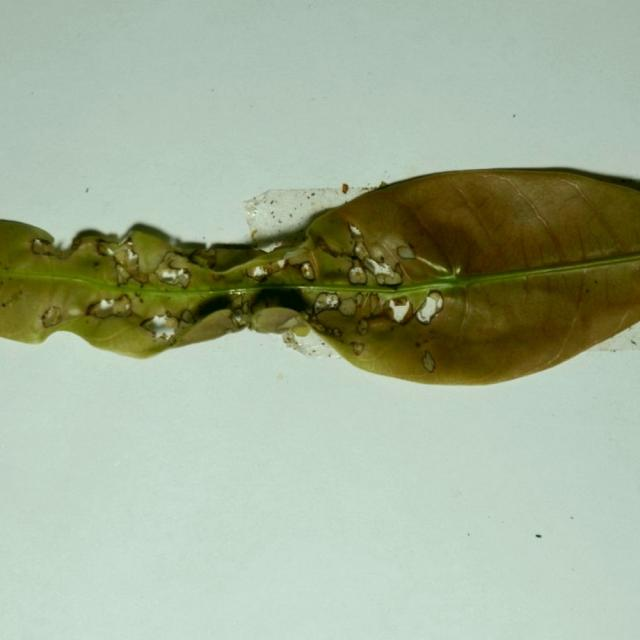Anthracnose: (94, 235, 206, 291), (28, 229, 142, 283), (309, 287, 413, 345), (30, 286, 141, 335), (347, 232, 406, 289), (307, 291, 357, 339), (248, 249, 314, 284), (139, 305, 196, 343), (67, 234, 104, 258), (318, 233, 350, 260), (229, 294, 251, 328), (311, 292, 340, 316), (29, 237, 59, 257), (40, 306, 64, 329), (1, 287, 26, 309), (245, 264, 270, 282), (356, 293, 374, 318), (348, 264, 367, 286), (368, 294, 387, 316), (338, 297, 358, 317), (353, 241, 371, 261), (308, 316, 327, 334), (422, 350, 436, 373), (396, 245, 415, 260), (180, 309, 197, 325), (349, 223, 362, 237)
Mango: (0, 167, 639, 389)
